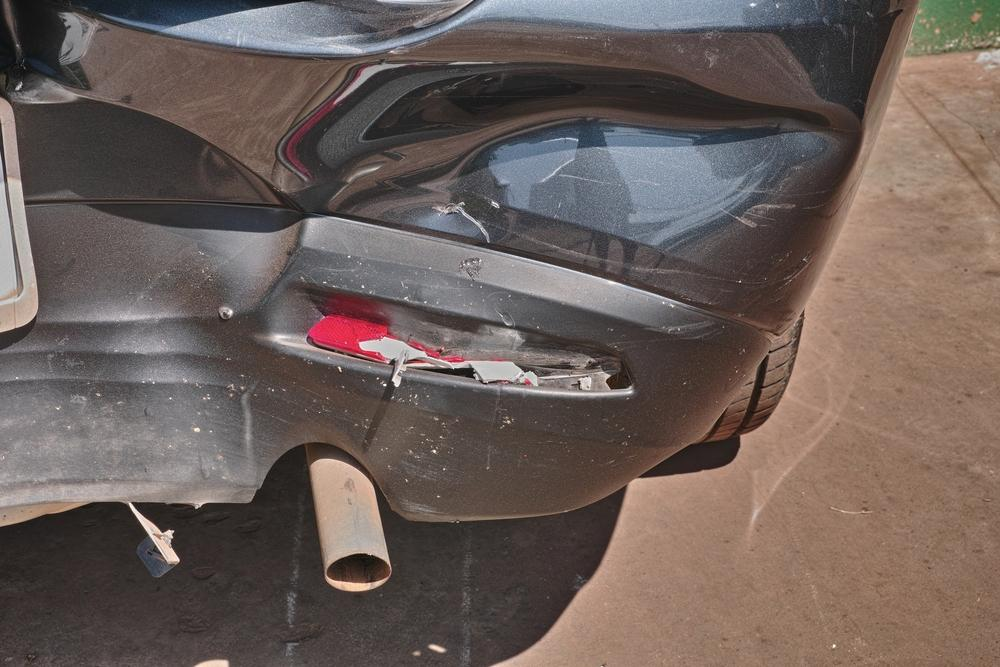dent: (292, 62, 862, 227), (109, 273, 288, 500)
